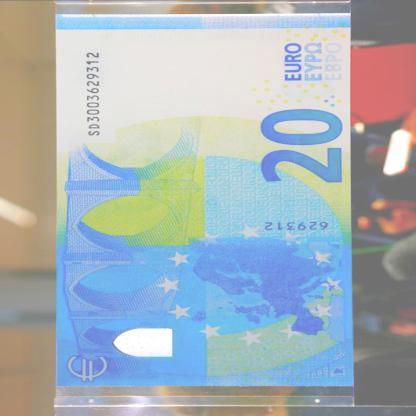euro_banknote: (19, 54, 390, 349)
